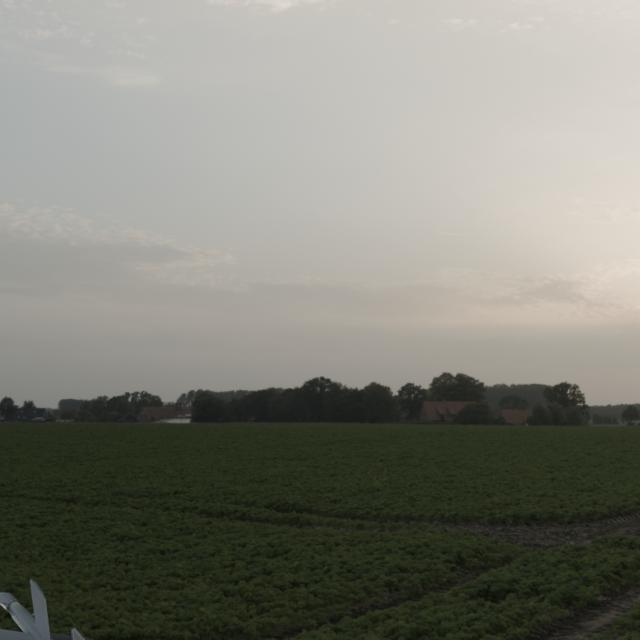Airaplan: (0, 580, 143, 640)
